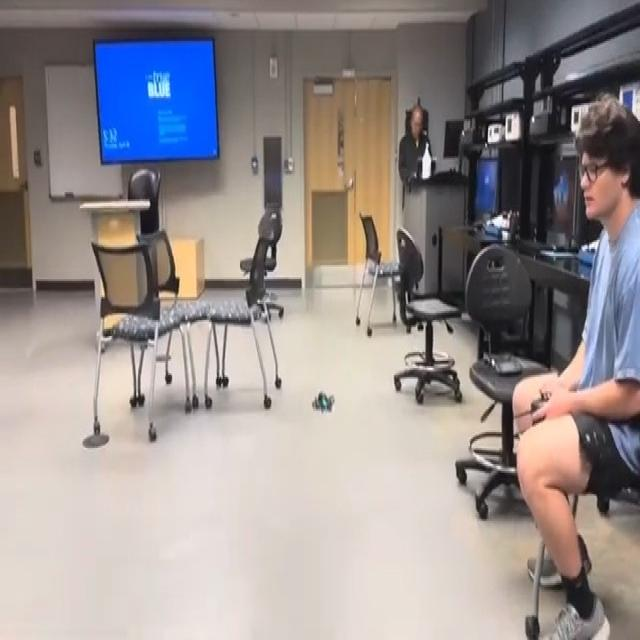drone: (305, 374, 336, 426)
